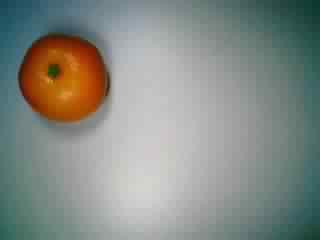orange: (14, 29, 110, 125)
